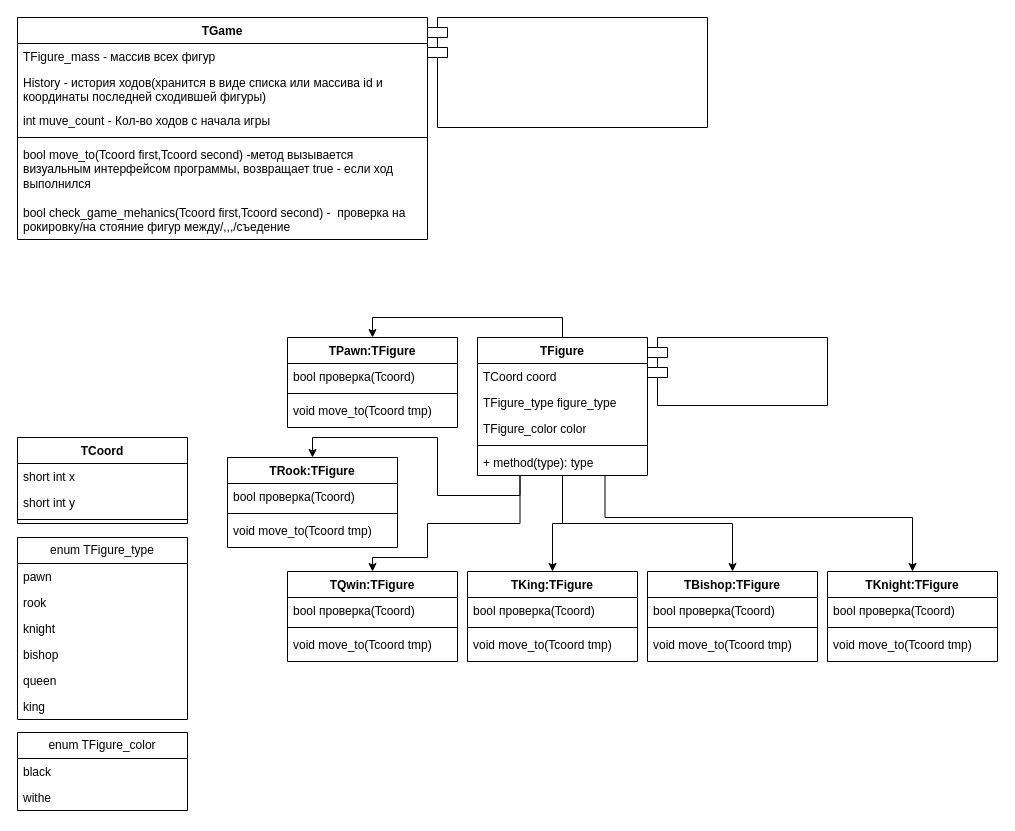
The diagram is 1015 pixels wide and 831 high, and some of its shapes have lost their labels. Here are the shapes that lost their labels. From the top down, the centre of each, then its label:
At [567,72]: "Доп примочки 1- Tcoord* get_list_coord(Tcoord first) 2- ...".
At [737,371]: "Доп примочки 1- поставить флаг на существование".
